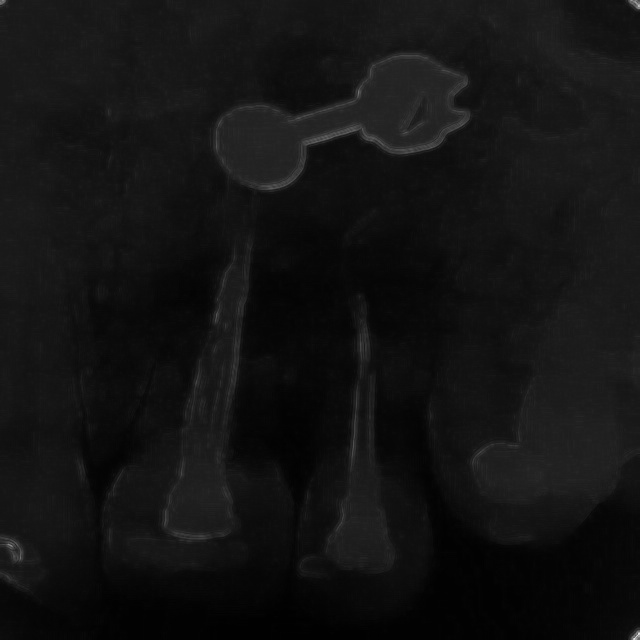Class 2- incomplete endodontic treatment: (79, 118, 355, 640), (272, 172, 489, 620)
